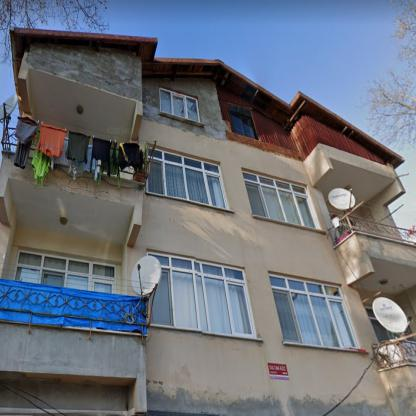window: (148, 252, 255, 337), (269, 275, 357, 347), (148, 149, 226, 208), (243, 172, 318, 229), (14, 251, 115, 292), (160, 88, 200, 122), (227, 104, 257, 140)
